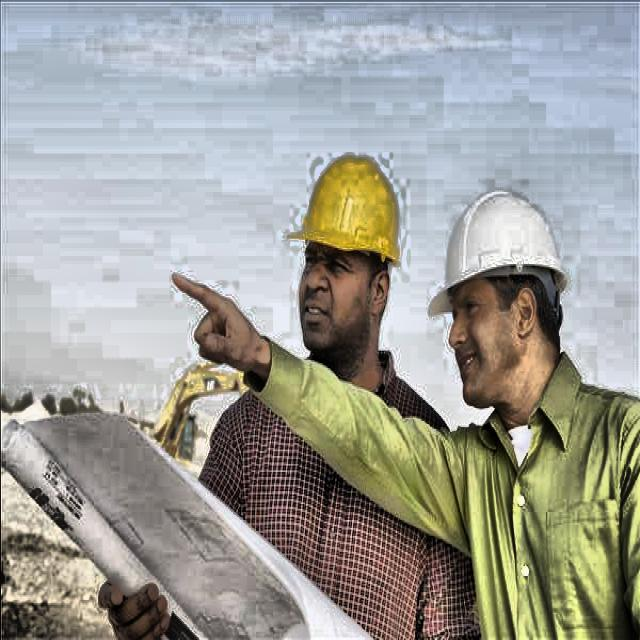helmet: (428, 160, 584, 438), (280, 126, 413, 372)
